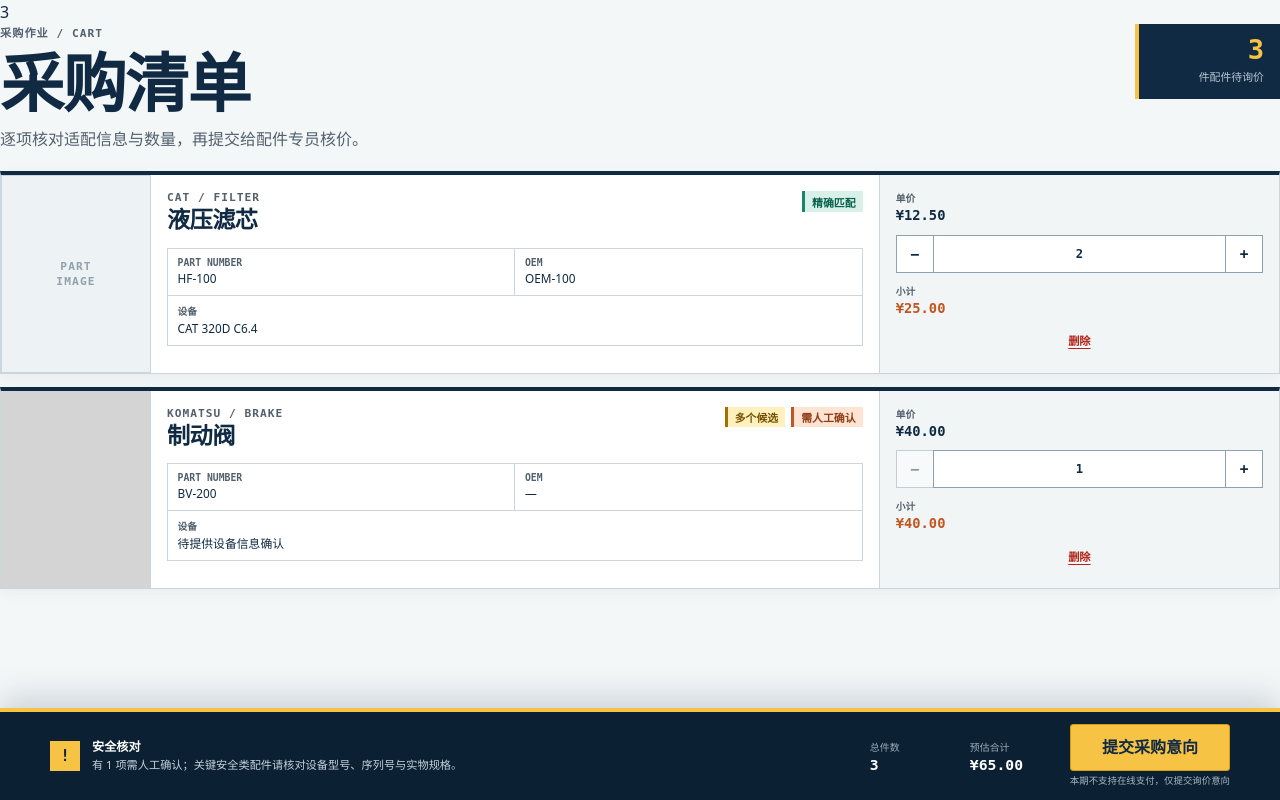
Scenario: CartPage › submits all inquiry fields once and shows the order number and status
This screenshot has width=1280, height=800.
Expected: the heading "液压滤芯" is shown, [167,208,260,234]
Click the button "提交采购意向" at (1150, 747), box [1070,724,1230,771]
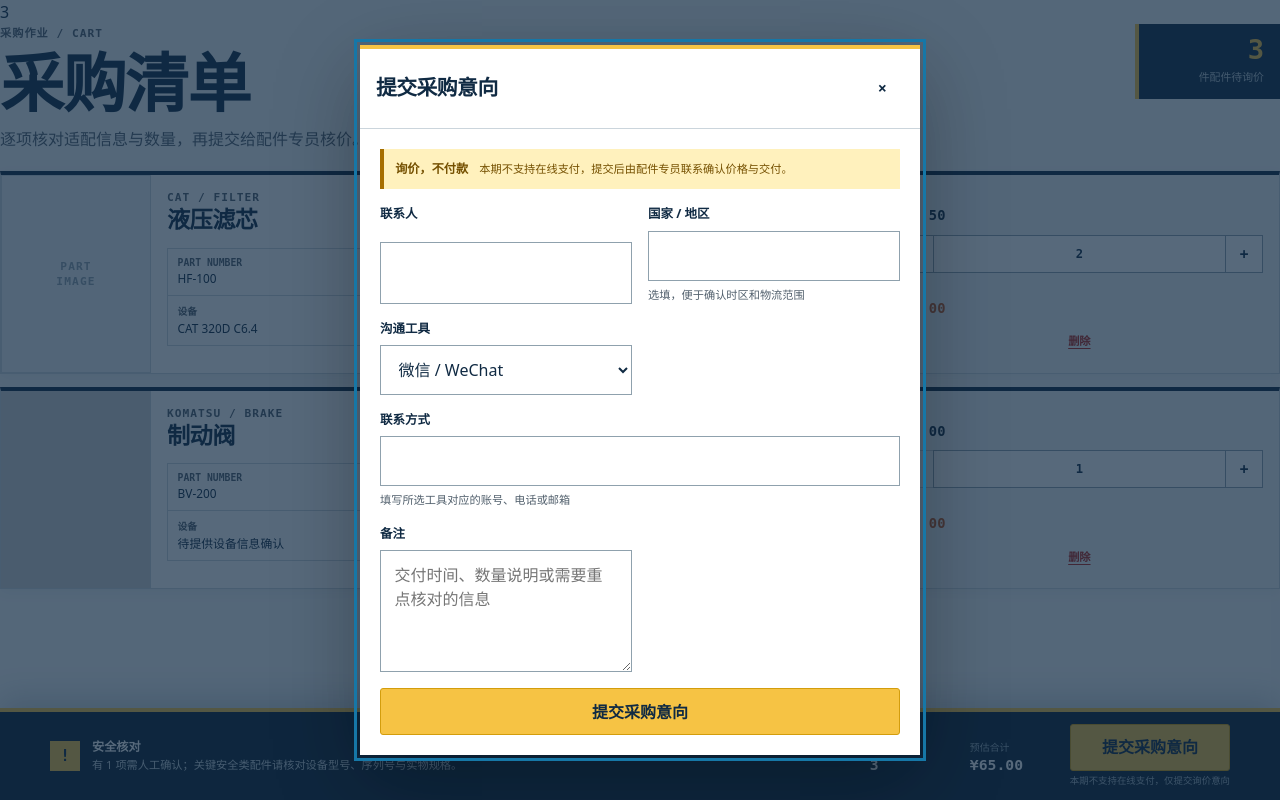
Expected: the text "本期不支持在线支付，仅提交询价意向" is shown, [1070,774,1230,788]
Type "Nguyen An" into the field labelled "联系人" at (506, 273), box [380,242,632,304]
Type "Vietnam" into the field labelled "国家 / 地区" at (774, 256), box [648,230,900,280]
Select "Zalo" in the dropdown labelled "沟通工具" at (506, 370), box [380,345,632,395]
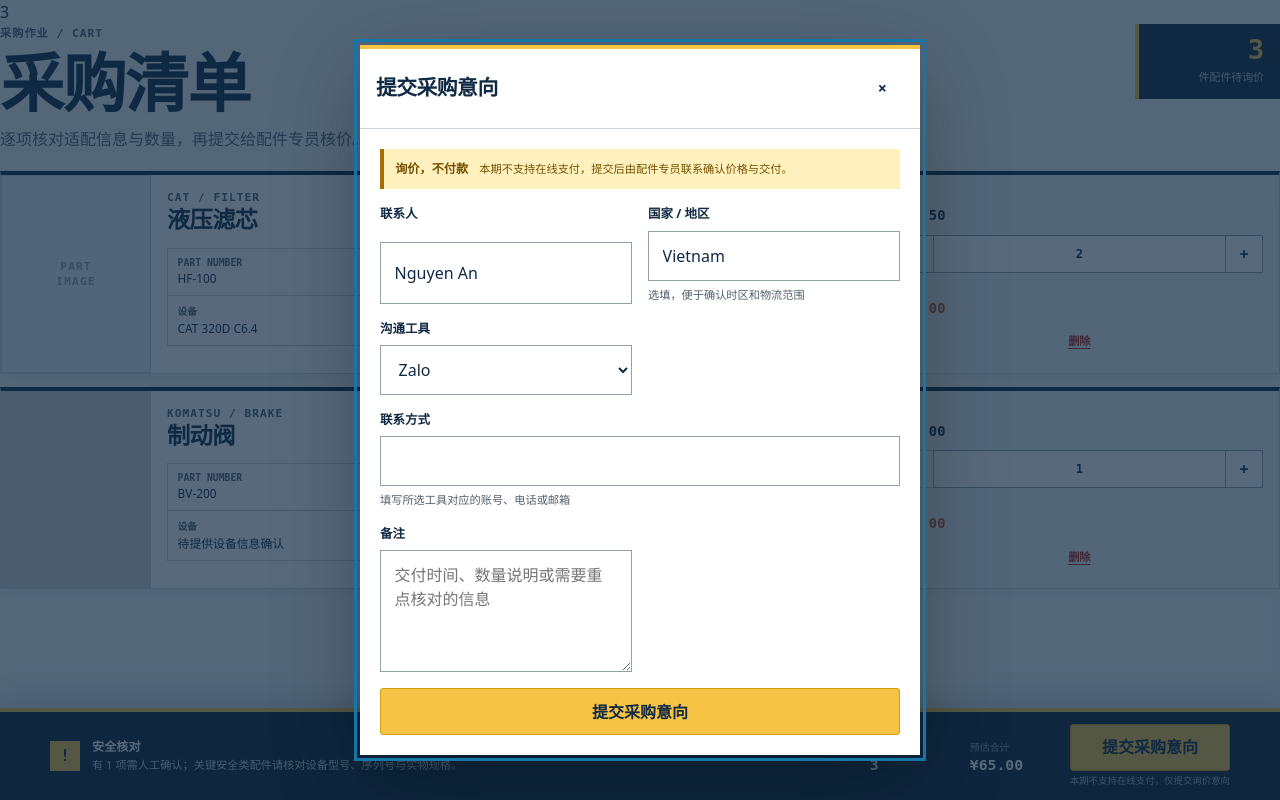
Type "zalo-user" into the field labelled "联系方式" at (640, 461), box [380,436,900,486]
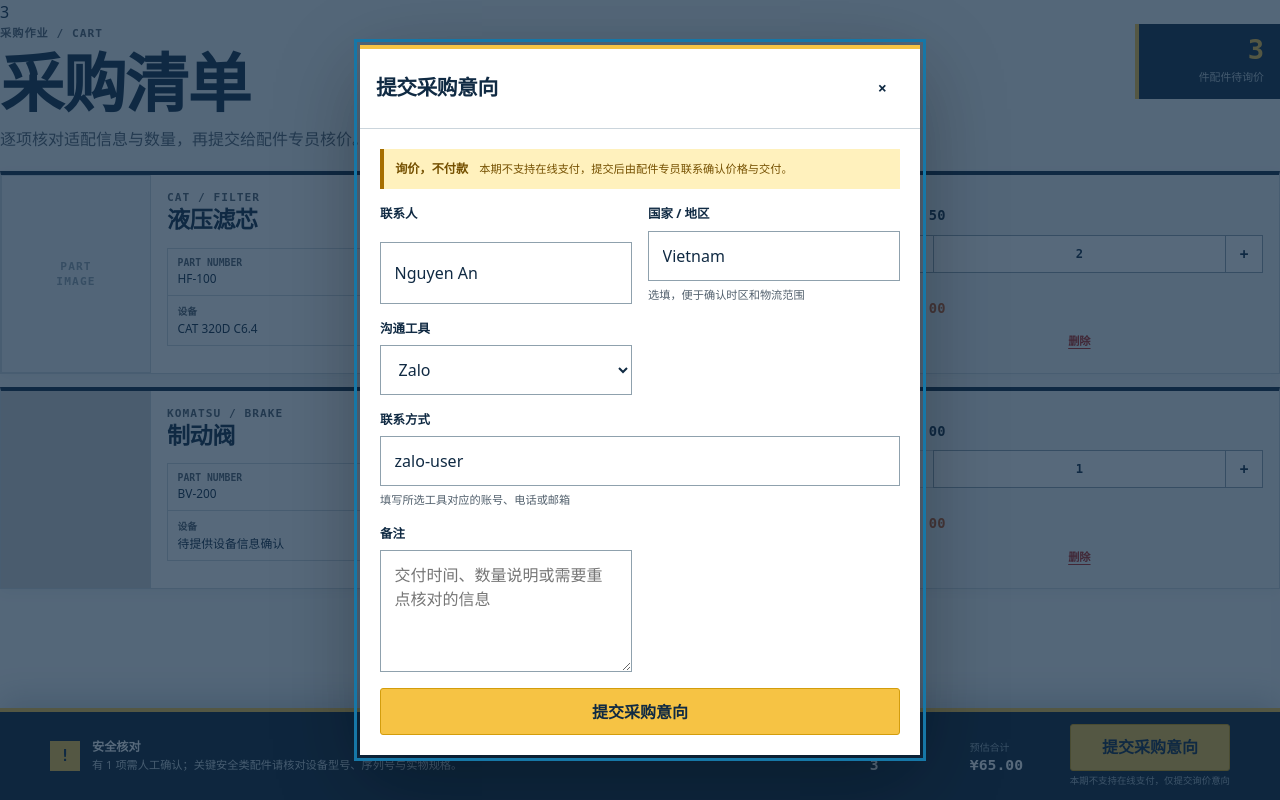
Type "请确认交期" into the text box labelled "备注" at (506, 611), box [380,550,632,672]
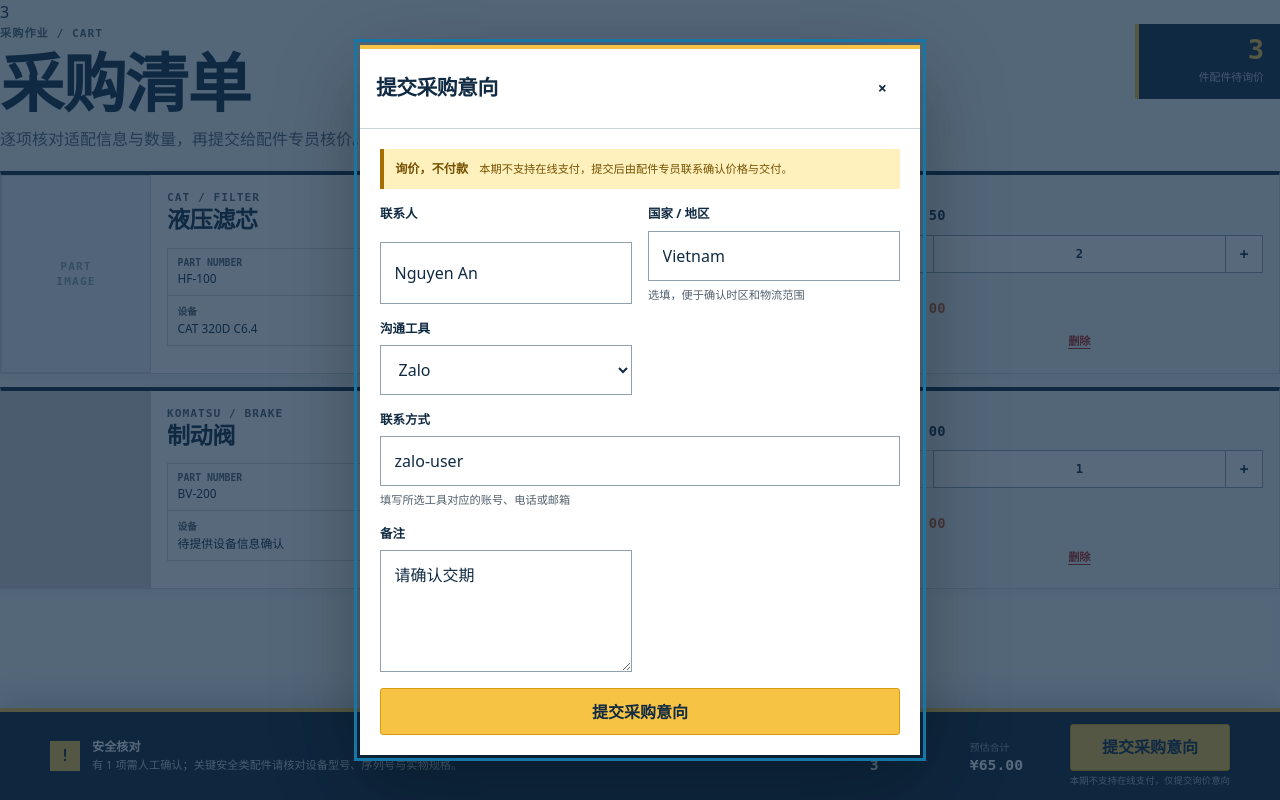
Click the button "提交采购意向" at (640, 712), box [380,688,900,735]
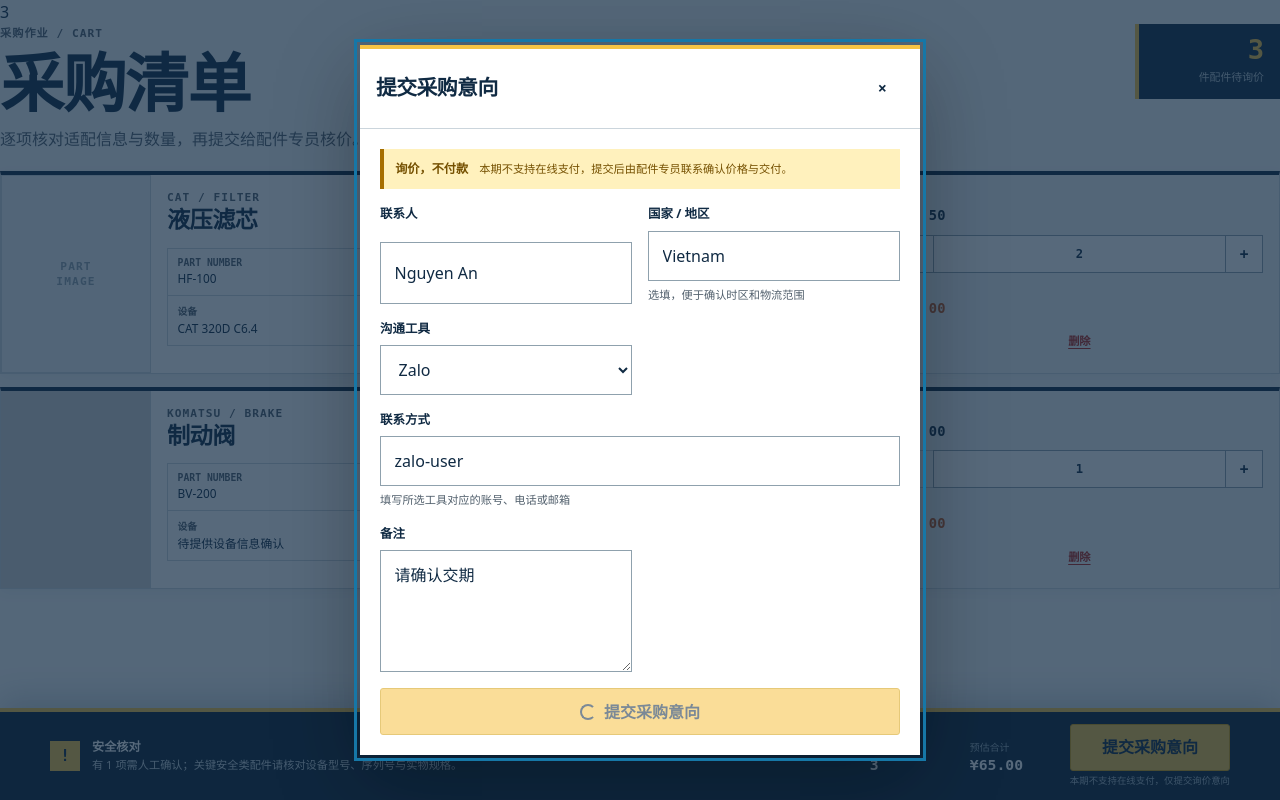
Click the button "提交采购意向" at (640, 712), box [380,688,900,735]
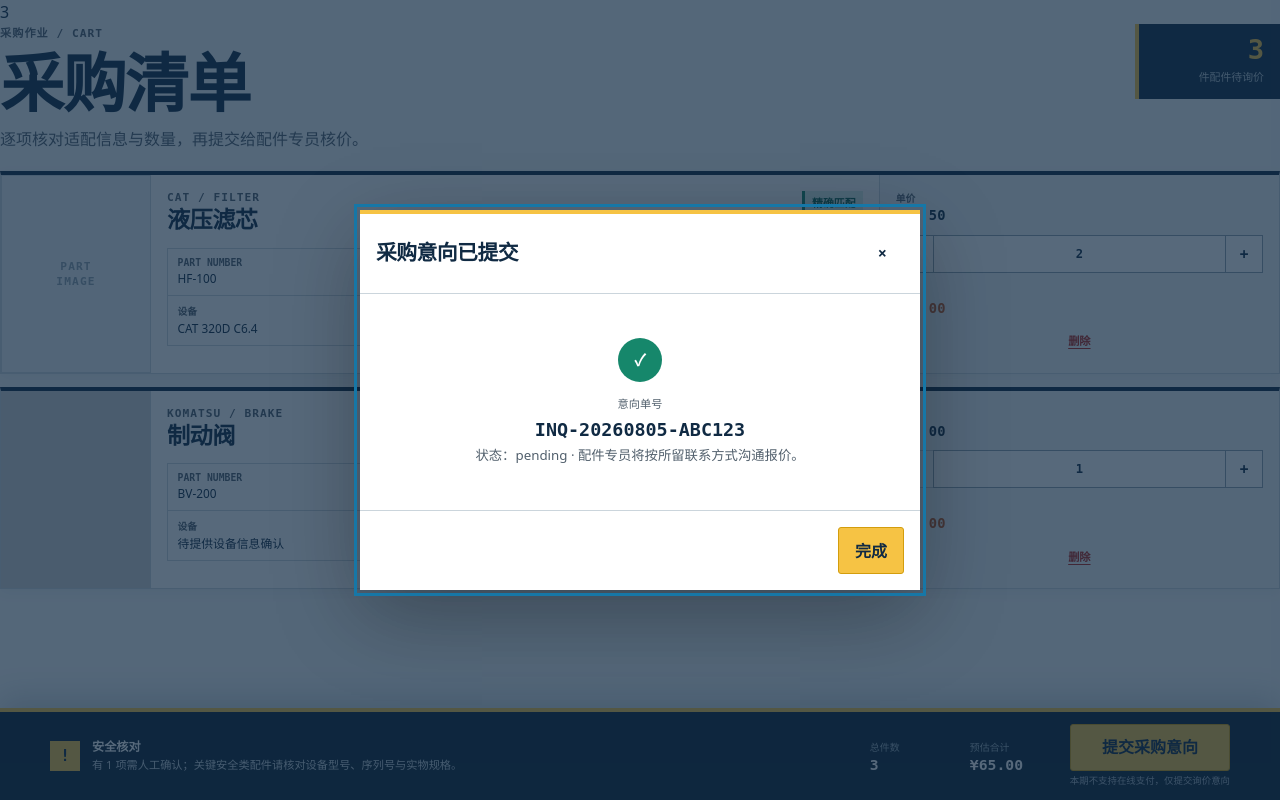
Expected: the text "INQ-20260805-ABC123" is shown, [535,419,745,440]
Expected: the text "状态：pending · 配件专员将按所留联系方式沟通报价。" is shown, [476,446,805,466]
